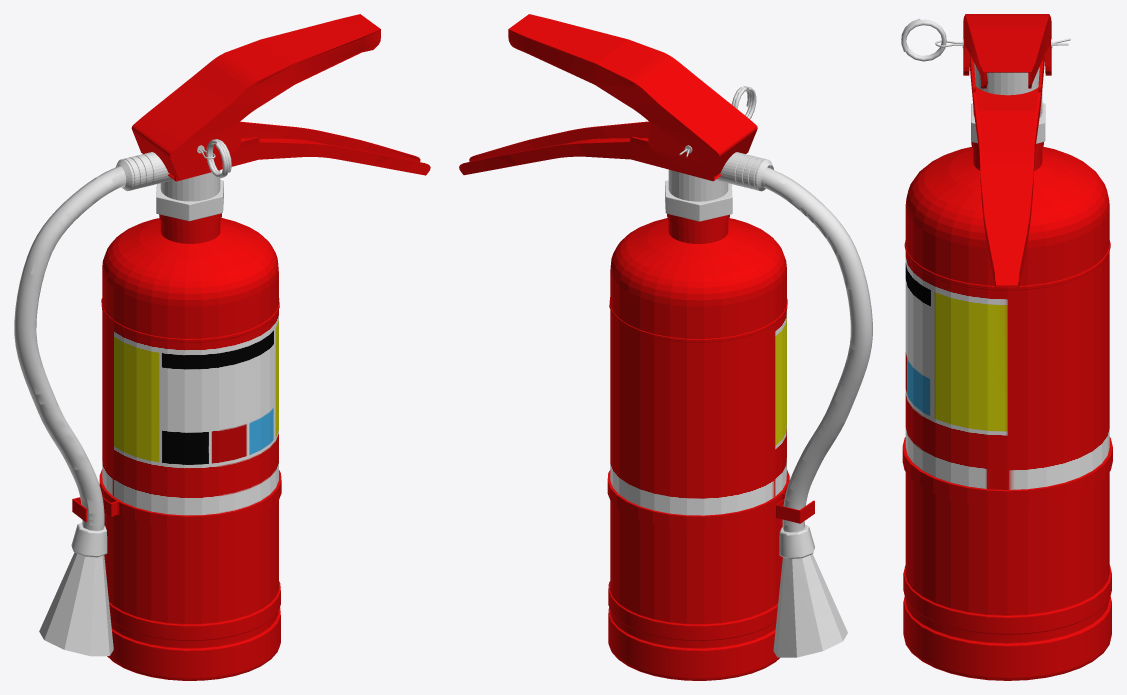
File: fire.FBX
3 views of the same model, side by side, from view 1: azimuth 30°, elevation 25°; view 2: azimuth 150°, elevation 25°; view 3: azimuth 270°, elevation 25° (orthographic). The views are drawn at different scales.
Visible parts, largest first — view 1: Cylinder001, Box001, Line001, Box002, Cylinder002, Object002, Object001, Cone001, Spring001; view 2: Cylinder001, Box001, Line001, Box002, Cylinder002, Object002, Object001, Cone001; view 3: Cylinder001, Box002, Box001, Object001, Spring001, Cylinder002.
Boxes of the visible parts, bbox=[...] form: Cylinder001: bbox=[72, 213, 281, 680]; Box001: bbox=[131, 14, 380, 180]; Line001: bbox=[14, 165, 126, 656]; Box002: bbox=[168, 121, 430, 181]; Cylinder002: bbox=[156, 180, 223, 221]; Object002: bbox=[116, 152, 172, 191]; Object001: bbox=[160, 170, 220, 201]; Cone001: bbox=[71, 523, 107, 557]; Spring001: bbox=[206, 139, 231, 178]; Cylinder001: bbox=[607, 214, 814, 680]; Box001: bbox=[508, 14, 757, 180]; Line001: bbox=[761, 167, 872, 657]; Box002: bbox=[459, 121, 745, 181]; Cylinder002: bbox=[665, 180, 732, 221]; Object002: bbox=[716, 152, 773, 191]; Object001: bbox=[668, 169, 728, 201]; Cone001: bbox=[779, 525, 814, 559]; Cylinder001: bbox=[902, 141, 1112, 680]; Box002: bbox=[969, 55, 1044, 287]; Box001: bbox=[963, 14, 1051, 88]; Object001: bbox=[973, 63, 1042, 118]; Spring001: bbox=[901, 18, 946, 61]; Cylinder002: bbox=[971, 103, 1045, 143].
Bounding box in the file's own units: 84.28 × 114 × 32.78.
